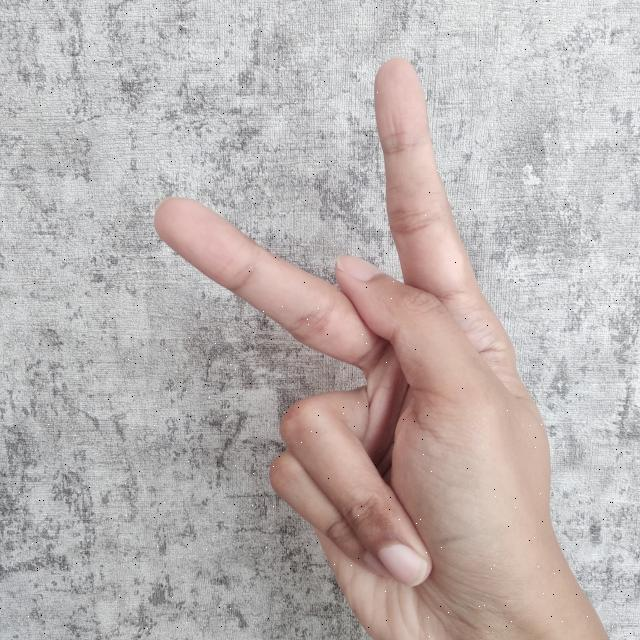K: (154, 52, 608, 640)
